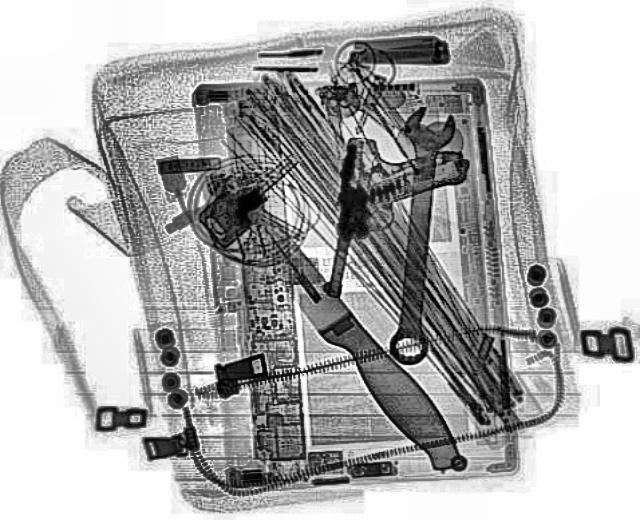Gun: (316, 134, 472, 306)
Knife: (230, 196, 474, 477)
Wrench: (379, 103, 457, 364)
